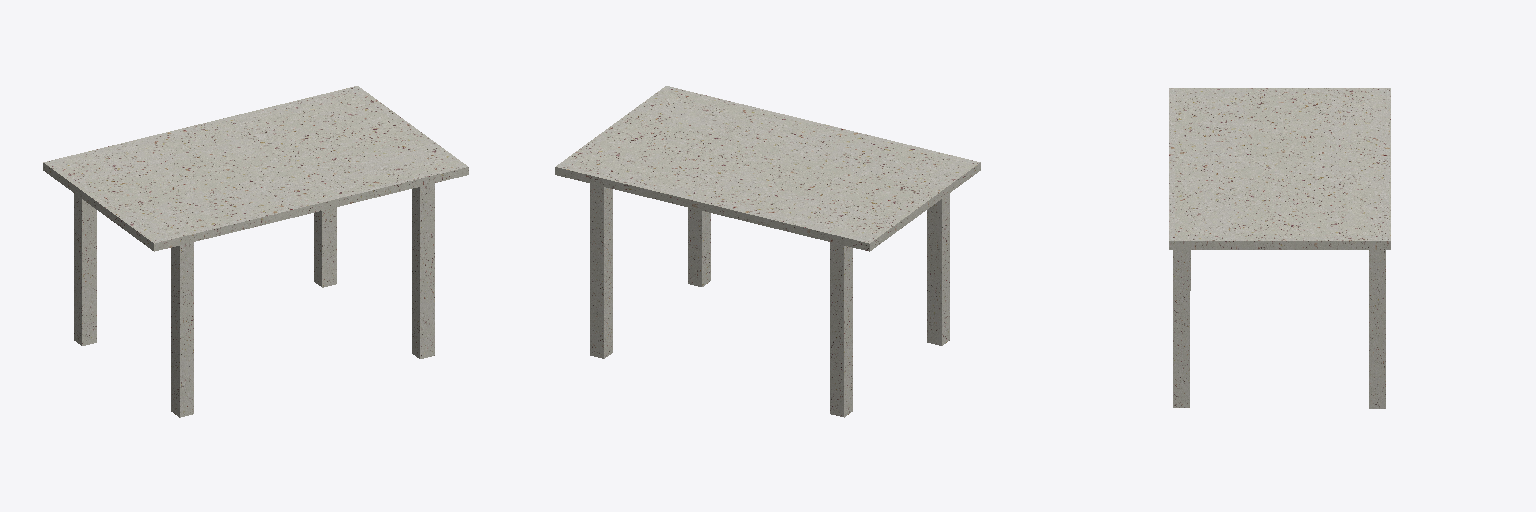
The picture shows the model from 3 angles: view 1: azimuth 30°, elevation 25°; view 2: azimuth 150°, elevation 25°; view 3: azimuth 270°, elevation 25°; orthographic projection.
Visible parts, largest first — view 1: Стол_Куб.004; view 2: Стол_Куб.004; view 3: Стол_Куб.004.
Part boxes in pixels (x1,y1,x2,y2): Стол_Куб.004: (43,86,468,417); Стол_Куб.004: (555,86,980,417); Стол_Куб.004: (1169,88,1390,408).
Size of the model in its own units: 3.14 by 1.74 by 1.92.
Materials: 1 (1 with a texture image).